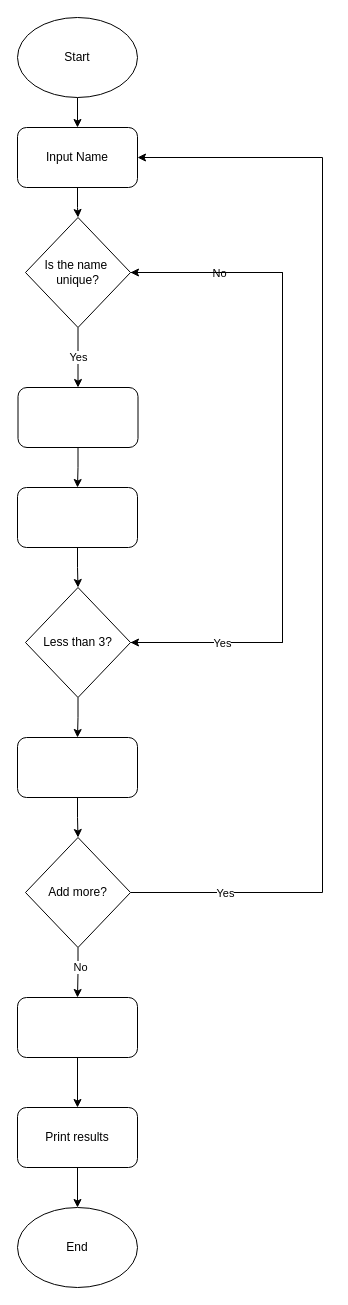
The diagram is 348 pixels wide and 1305 high, and some of its shapes have lost their labels. Each missing label, with the centre of its shape:
Add name to the list: (x=77, y=417)
Ask to add more names: (x=77, y=767)
Assign lootjes: (x=77, y=1027)
Check number of names: (x=77, y=517)
